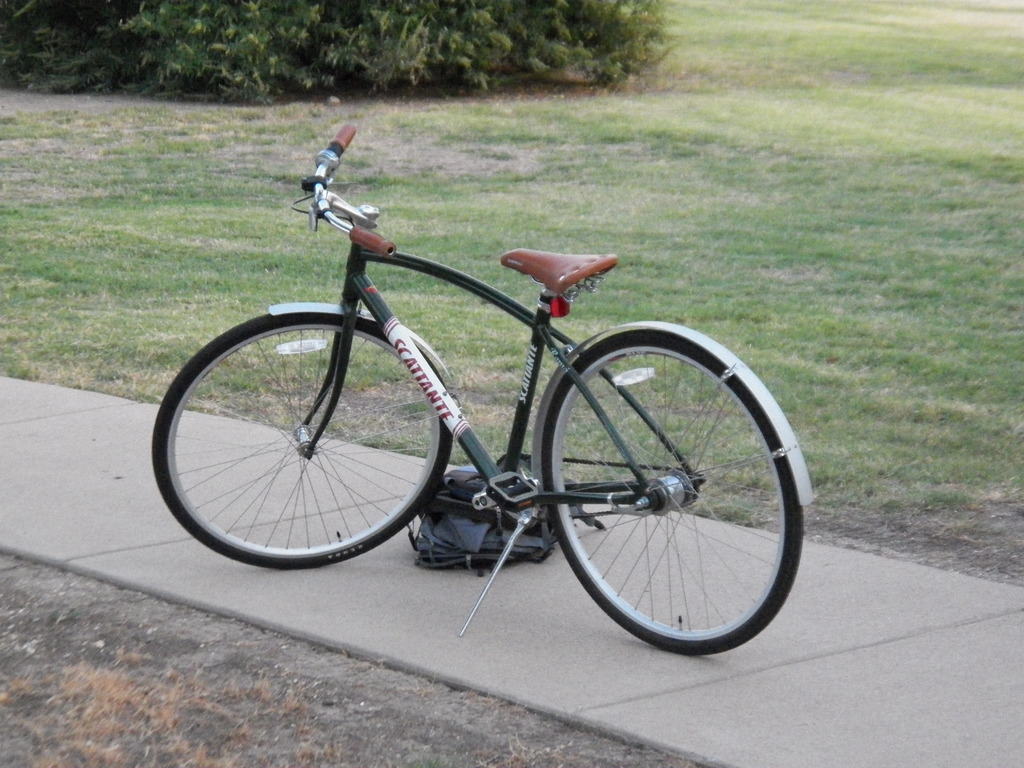bicycle: (152, 160, 810, 628)
